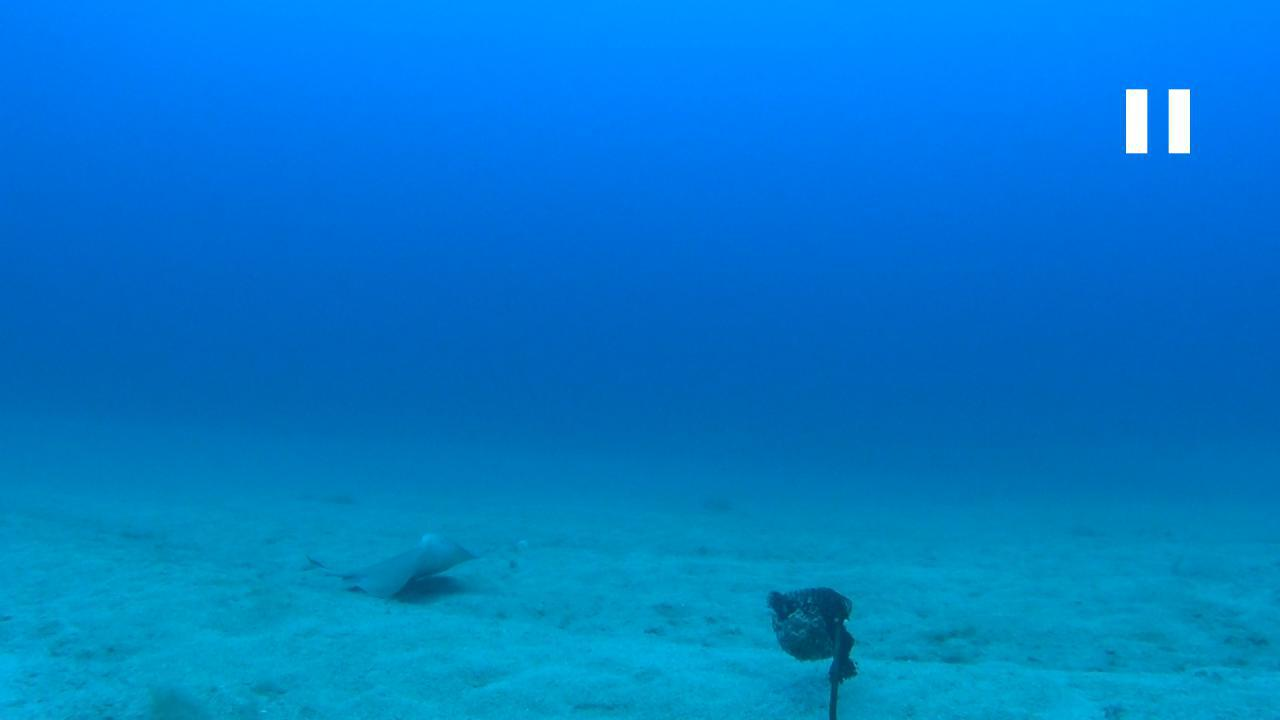dasyatis: (301, 528, 490, 598)
